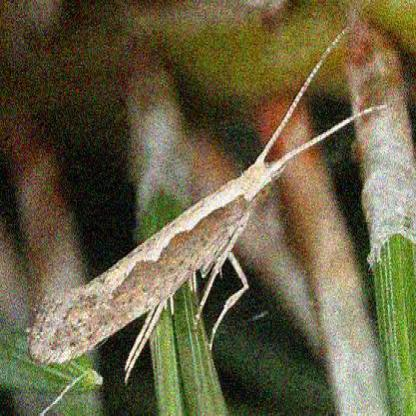plutella: (24, 10, 399, 388)
